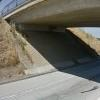Bridge: (7, 3, 100, 39)
